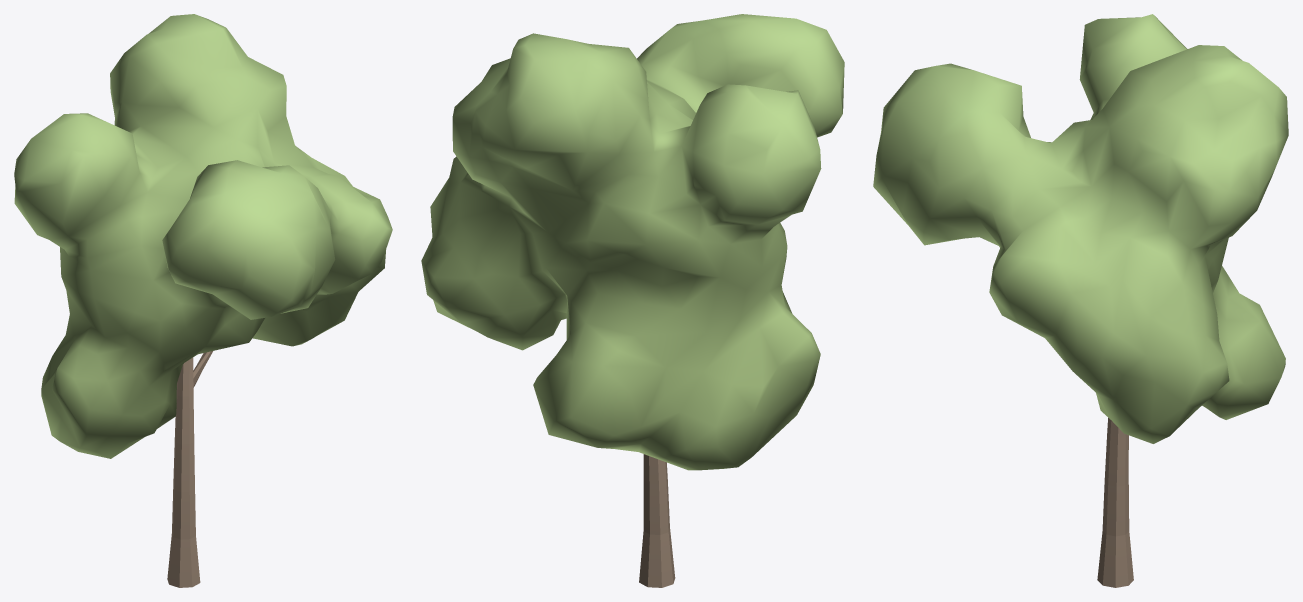
File: tree_young.glb
3 renders of one model, left to right at view 1: azimuth 30°, elevation 25°; view 2: azimuth 150°, elevation 25°; view 3: azimuth 270°, elevation 25°, orthographic. The views are drawn at different scales.
Parts seen in each view (by area): view 1: tree_young; view 2: tree_young; view 3: tree_young.
Part boxes in pixels (x1,y1,x2,y2): tree_young: (14,14,392,587); tree_young: (421,14,844,587); tree_young: (873,14,1288,587).
Bounding box in the file's own units: 3.43 × 4.74 × 3.27.
